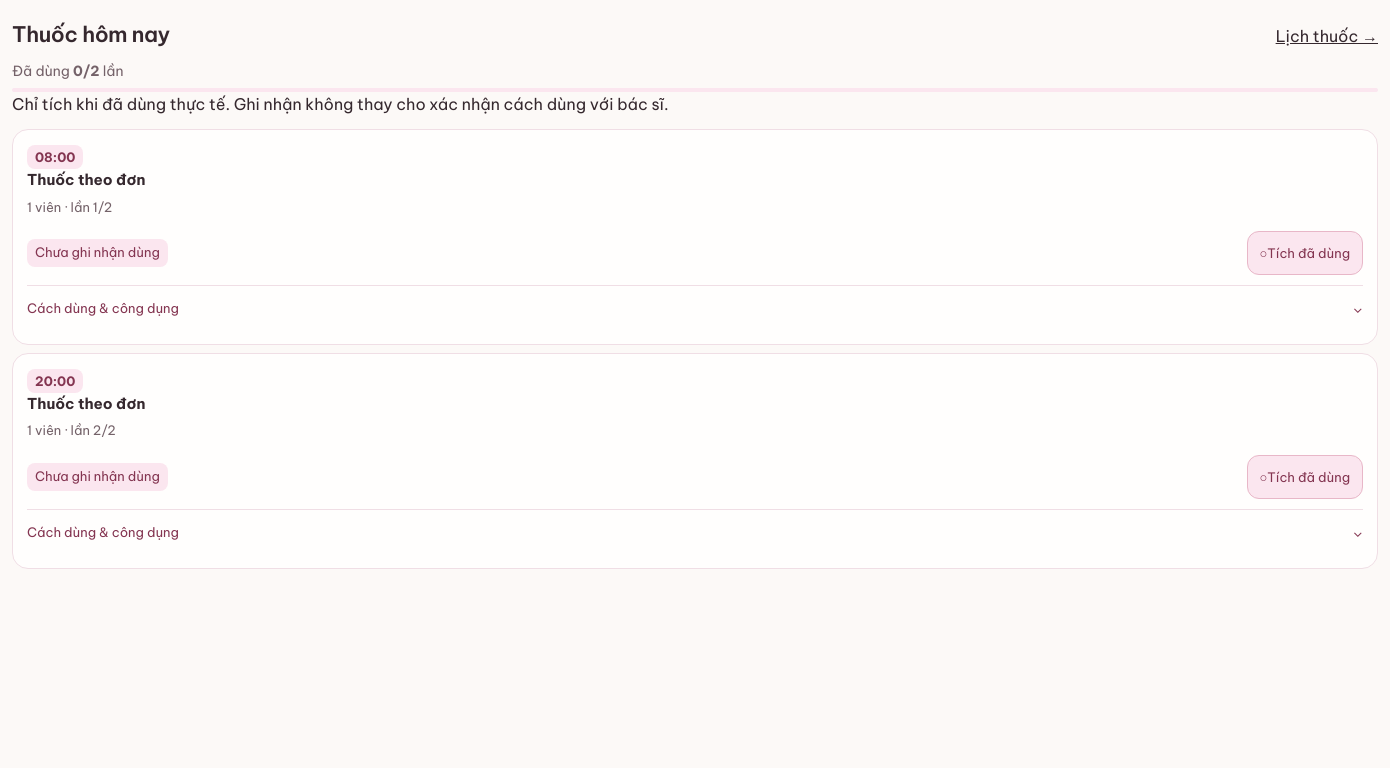
Test case: records an unconfirmed plan without approving or modifying its prescription
This screenshot has width=1390, height=768.
Step 1. Click the button with aria-label "Đánh dấu đã dùng Thuốc theo đơn lần 1" → click(1305, 253), box [1246, 231, 1363, 275]
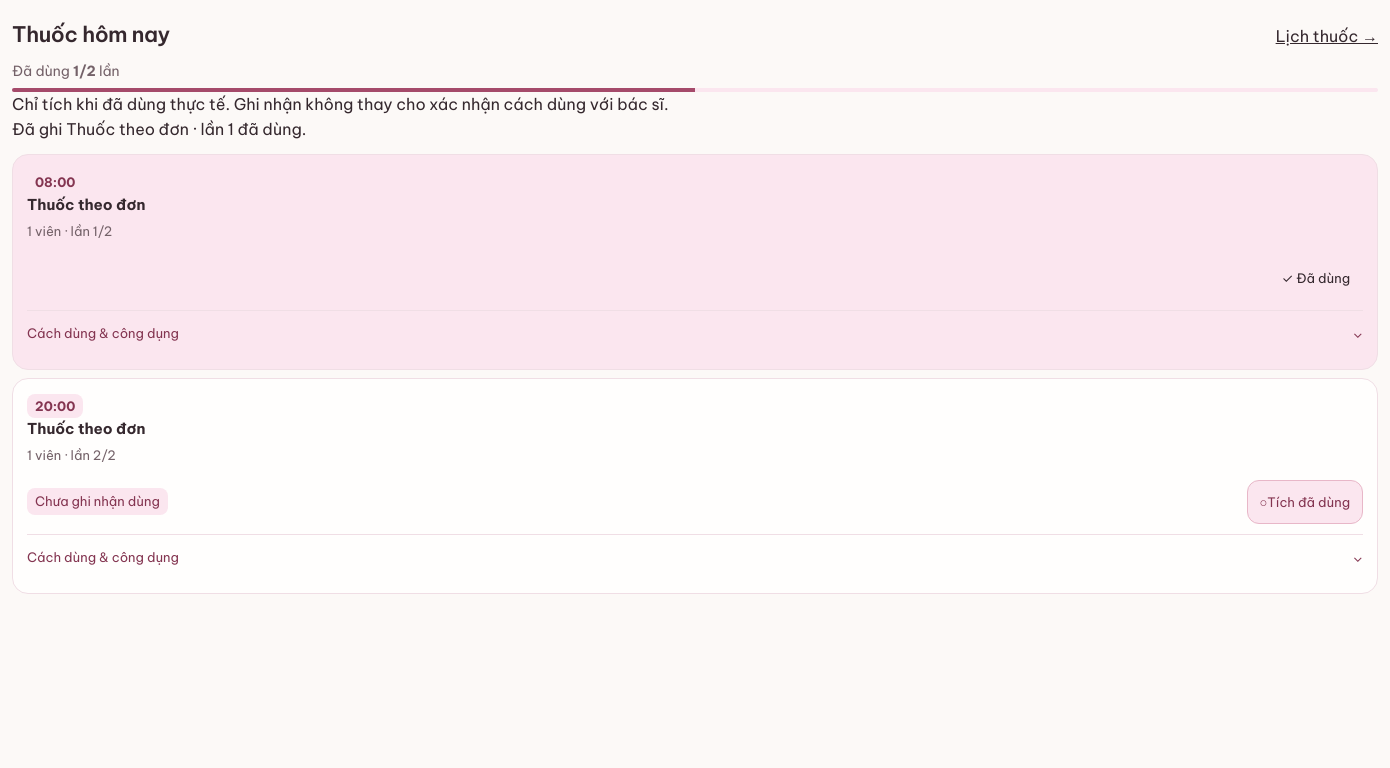
Expected: the button with aria-label "Đánh dấu đã dùng Thuốc theo đơn lần 2" is enabled, [1246, 480, 1363, 524]
Result: the text "Đã ghi Thuốc theo đơn · lần 1 đã dùng." is shown at [12, 119, 306, 139]
